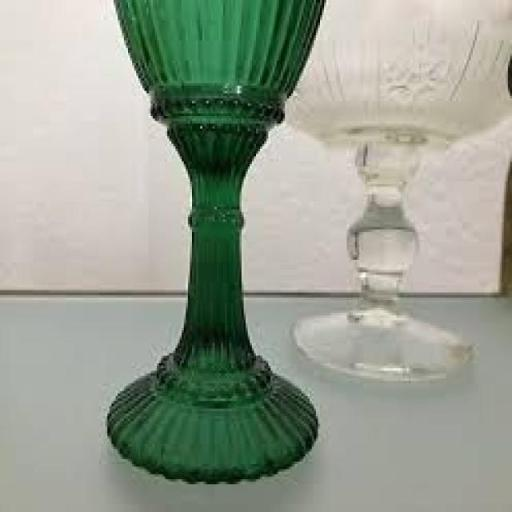glass: (100, 4, 340, 482), (279, 2, 510, 380)
